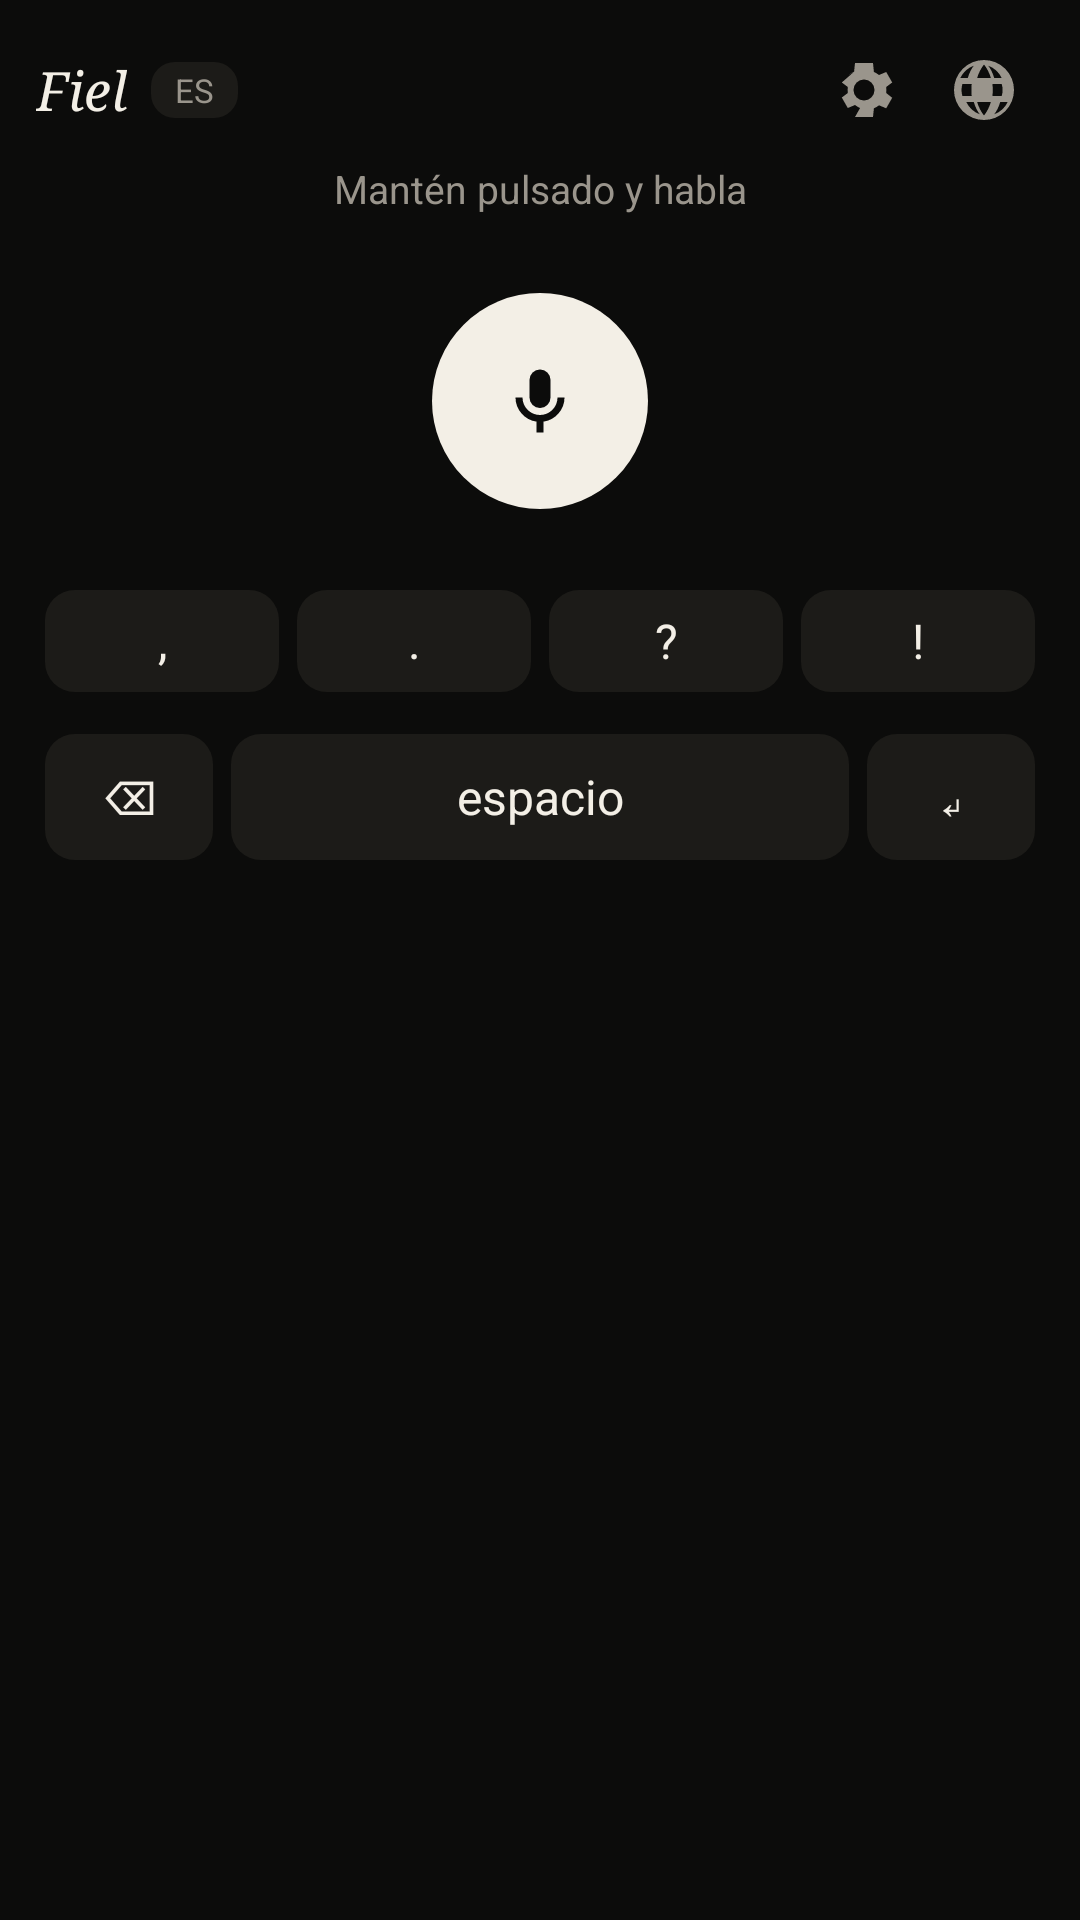

Where icons sit on this 1080x1920 app screen, as (x1, y1, x2, y2):
Ajustes: (842, 63, 892, 117)
Cambiar de teclado: (954, 60, 1014, 120)
mic: (515, 369, 565, 433)
